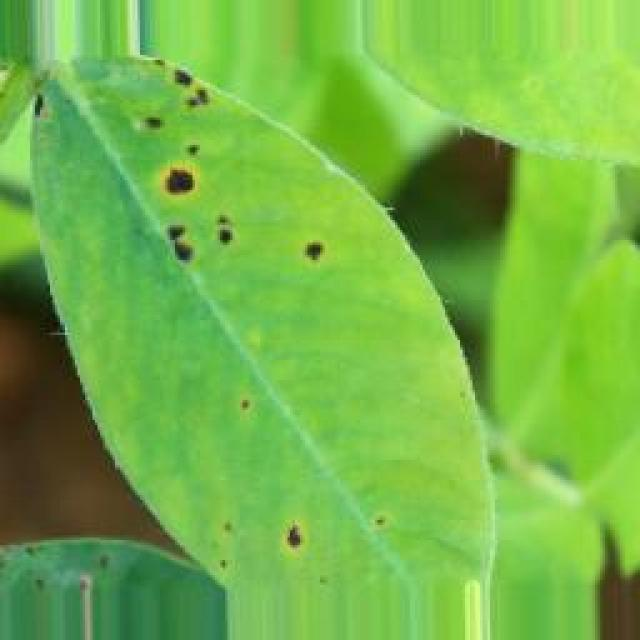Sigatoka: (122, 144, 248, 274), (210, 484, 304, 572), (135, 42, 225, 130), (278, 207, 354, 302), (116, 95, 192, 156), (224, 380, 266, 420)
